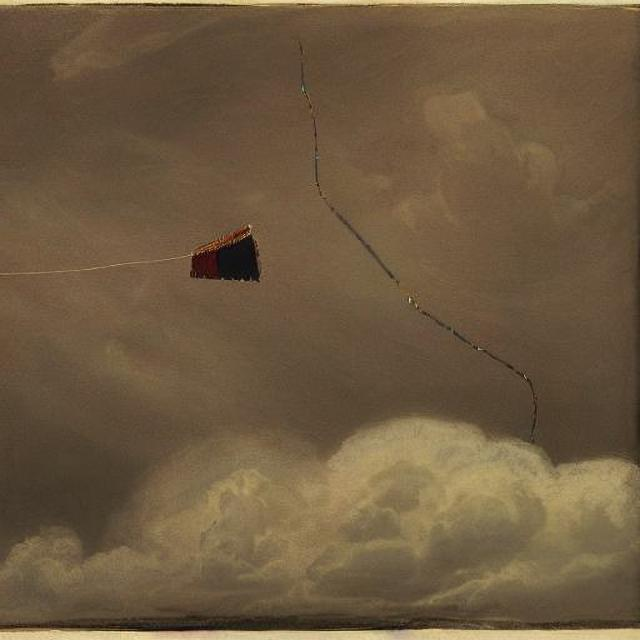floating object: (189, 223, 261, 282)
